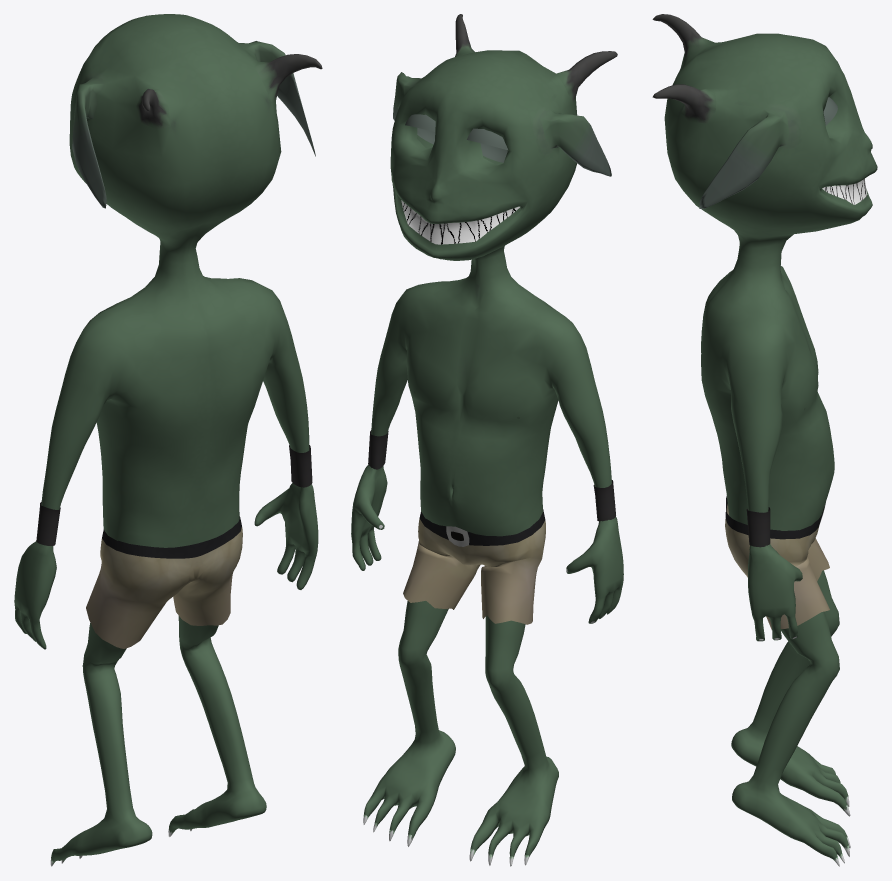
File: lwjglcharactergoblin13.obj
3 views of the same model, side by side, from view 1: azimuth 30°, elevation 25°; view 2: azimuth 150°, elevation 25°; view 3: azimuth 270°, elevation 25° (orthographic). The views are drawn at different scales.
Visible parts, largest first — view 1: Cube.002; view 2: Cube.002; view 3: Cube.002.
Part boxes in pixels (box(x1,y1,x2,y2)): Cube.002: box(14, 14, 322, 866); Cube.002: box(351, 14, 623, 866); Cube.002: box(652, 14, 877, 866).
Bounding box in the file's own units: 1.38 × 3.9 × 1.01.
